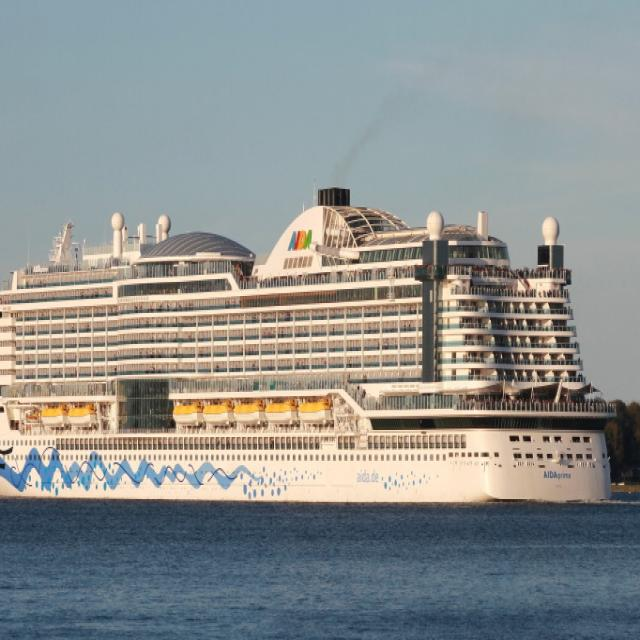cruises: (1, 174, 618, 510)
